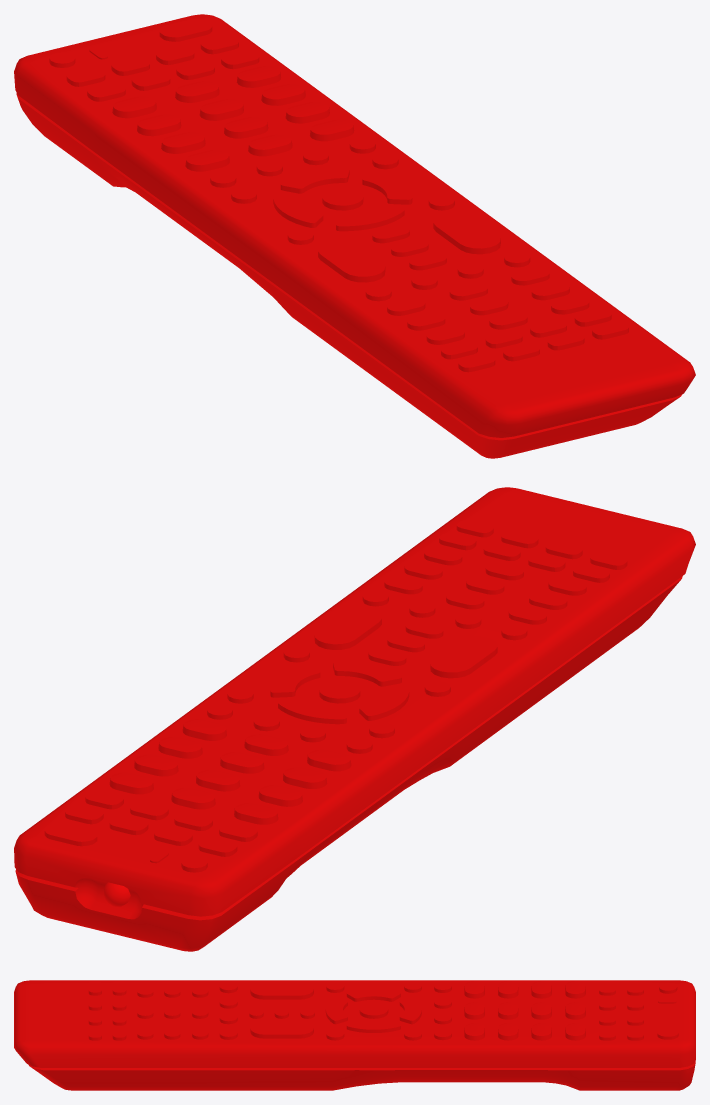
File: SM_TV_01_remote.glb
The picture shows the model from 3 angles, top to bottom: view 1: azimuth 30°, elevation 25°; view 2: azimuth 150°, elevation 25°; view 3: azimuth 270°, elevation 25°; orthographic projection. The views are drawn at different scales.
Visible parts, largest first — view 1: SM_TV_01_remote_LOD0; view 2: SM_TV_01_remote_LOD0; view 3: SM_TV_01_remote_LOD0.
Part boxes in pixels (bbox=[...]): SM_TV_01_remote_LOD0: bbox=[14, 14, 695, 458]; SM_TV_01_remote_LOD0: bbox=[14, 487, 695, 951]; SM_TV_01_remote_LOD0: bbox=[14, 980, 695, 1090].
Bounding box in the file's own units: 0.0472 × 0.0184 × 0.195.
